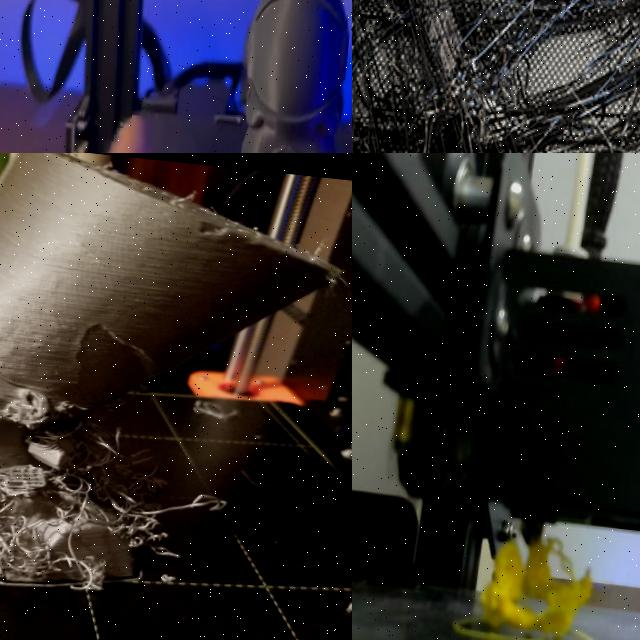spaghetti: (352, 0, 640, 153), (0, 425, 167, 590), (477, 527, 604, 640)
